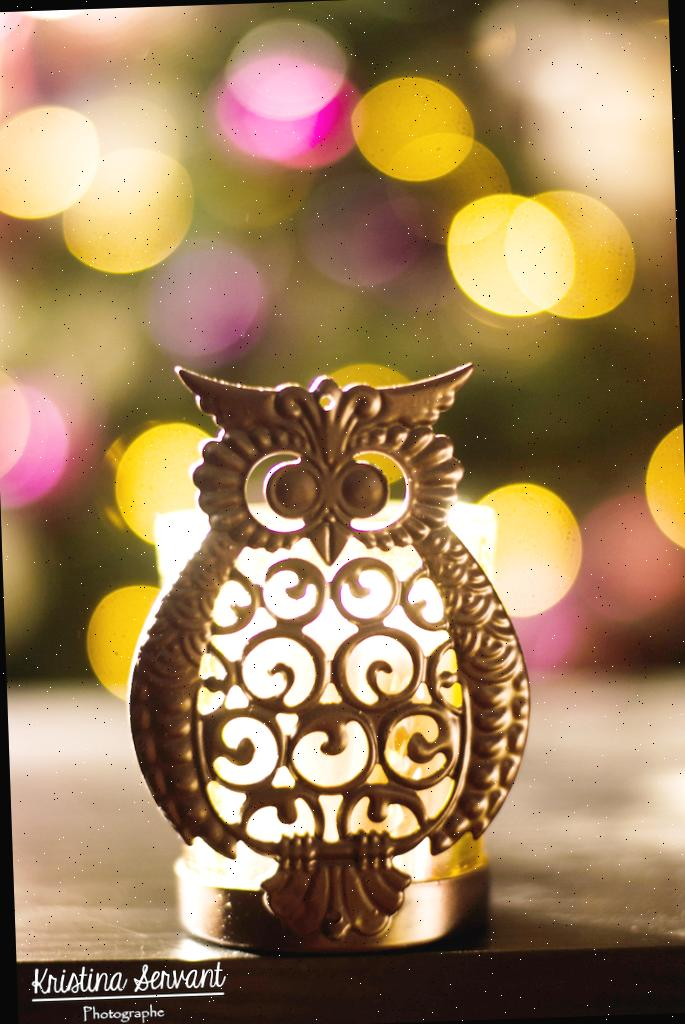Owl: (117, 353, 540, 952)
